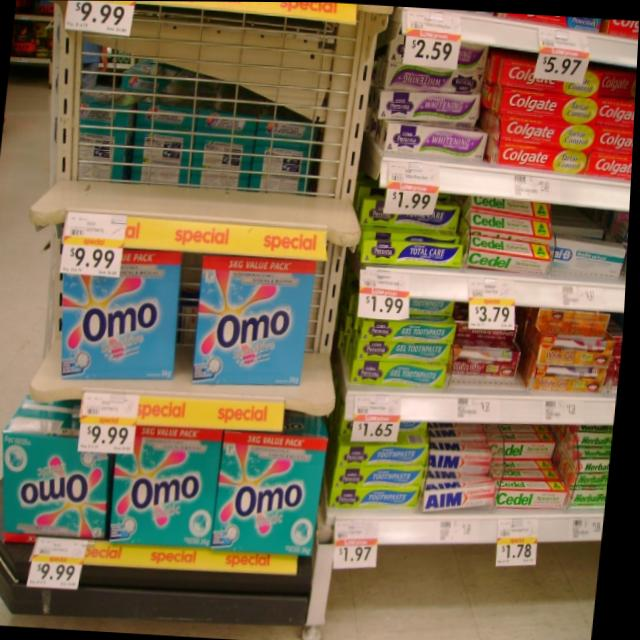q49: (216, 432, 334, 561), (2, 420, 124, 544), (117, 428, 228, 559)
